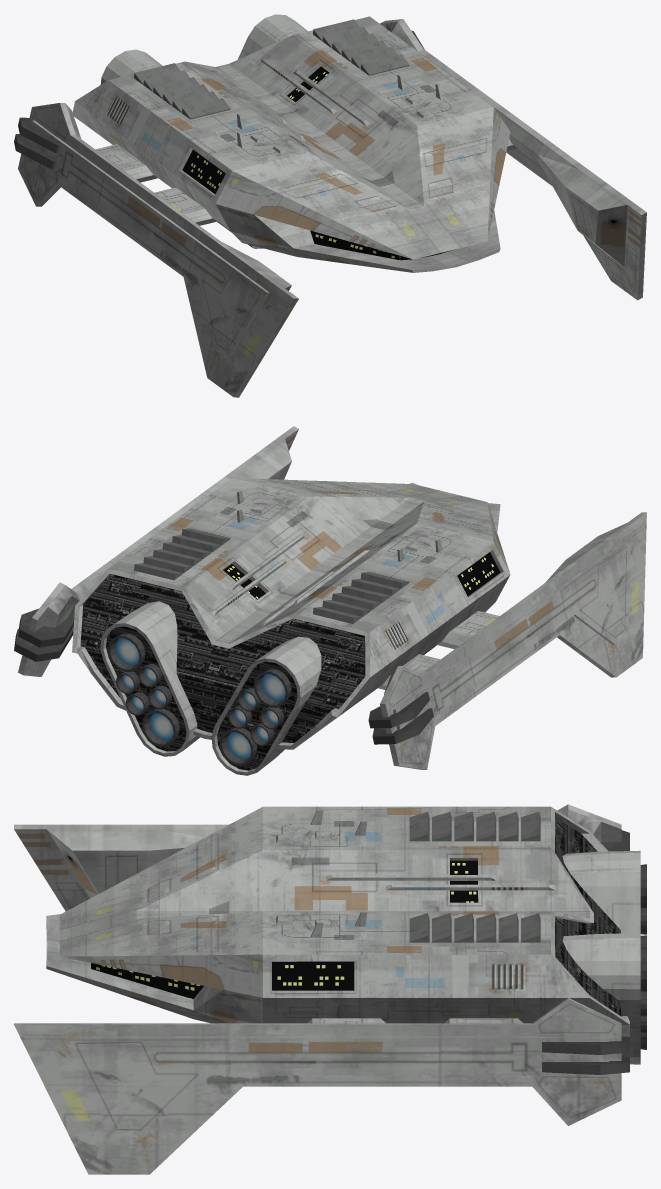
The model's file is Harrier_Frigate.obj.
3 renders of one model, top to bottom at view 1: azimuth 30°, elevation 25°; view 2: azimuth 150°, elevation 25°; view 3: azimuth 270°, elevation 25°, orthographic. The views are drawn at different scales.
Parts seen in each view (by area): view 1: Hull, Lights; view 2: Hull, Lights; view 3: Hull, Lights.
Boxes of the visible parts, x1,y1,x2,y2 form: Hull: (14, 14, 646, 397); Lights: (182, 66, 455, 260); Hull: (14, 426, 646, 775); Lights: (115, 552, 500, 758); Hull: (14, 804, 646, 1174); Lights: (91, 860, 478, 998).
Size of the model in its own units: 134 by 52.32 by 155.
